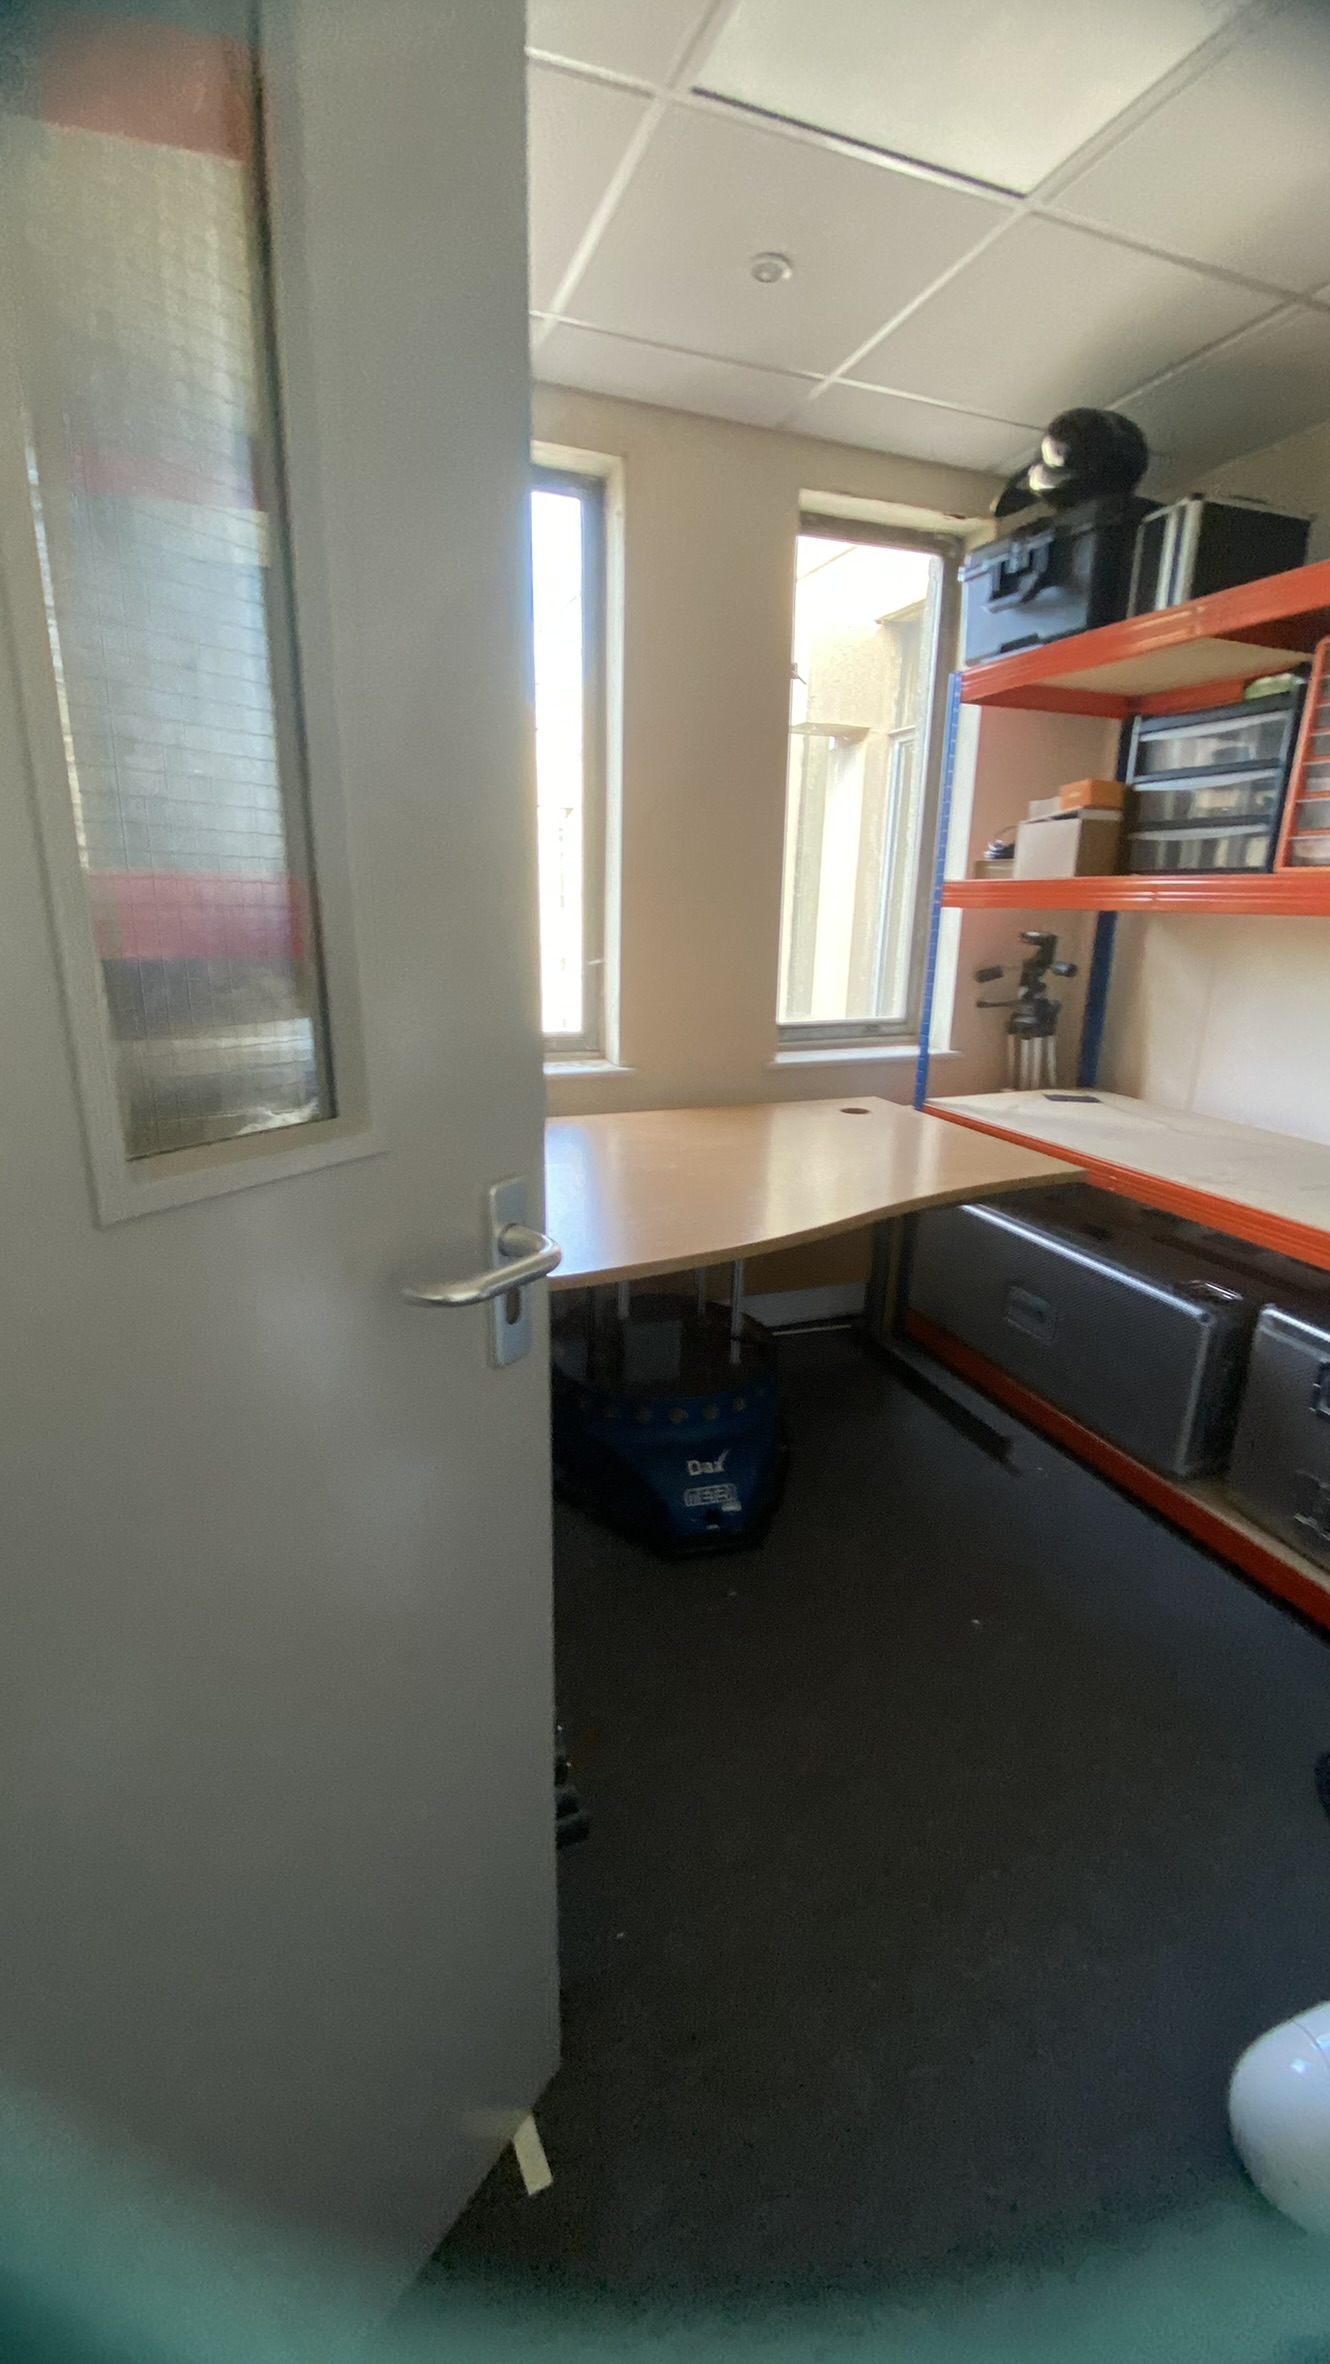door: (2, 10, 534, 2361)
table: (559, 1112, 1153, 1421)
